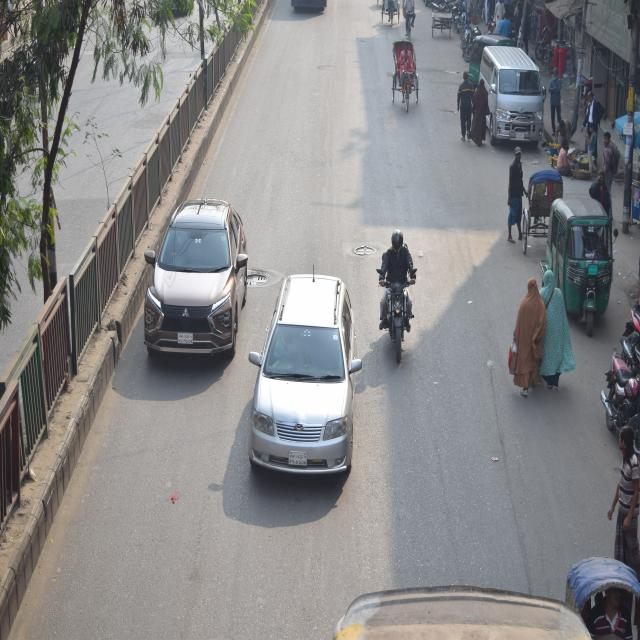car: (248, 242, 362, 497), (138, 197, 248, 363)
microbus: (469, 38, 558, 154)
motorbike: (369, 214, 428, 365)
